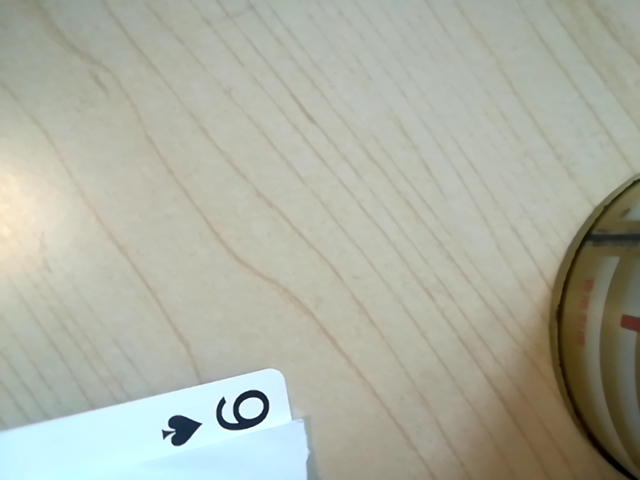ht 9: (154, 381, 288, 450)
